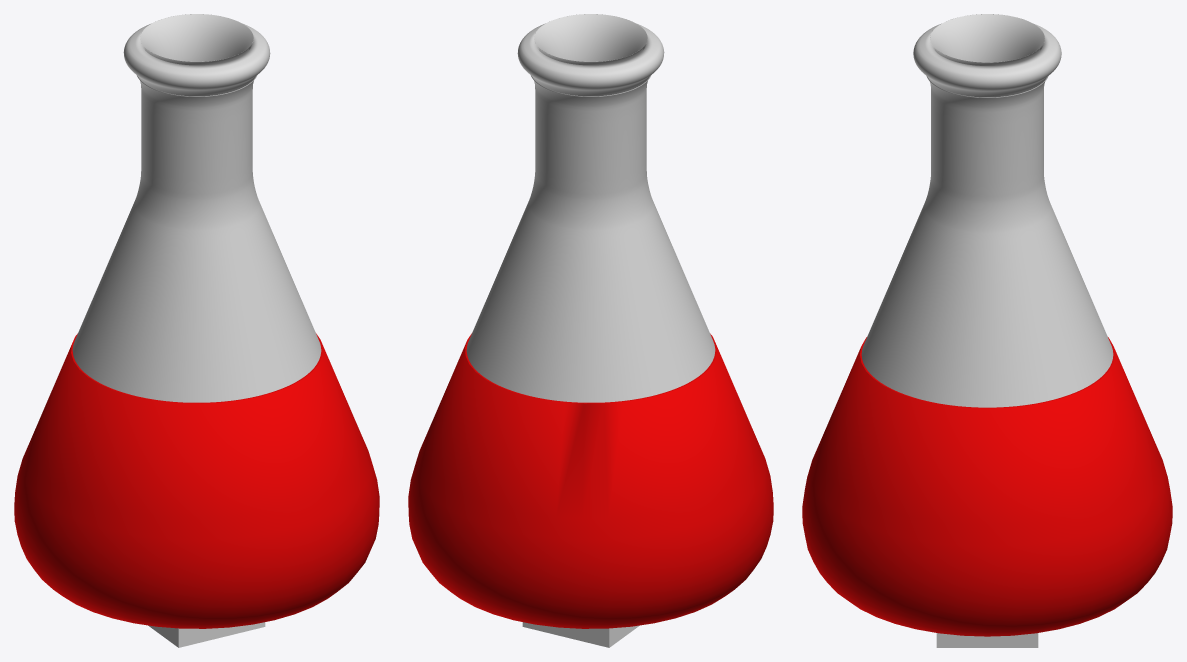
File: beaker.fbx
3 renders of one model, left to right at view 1: azimuth 30°, elevation 25°; view 2: azimuth 150°, elevation 25°; view 3: azimuth 270°, elevation 25°, orthographic.
Parts seen in each view (by area): view 1: fluid, Cylinder, Cube; view 2: fluid, Cylinder, Cube; view 3: fluid, Cylinder, Cube.
Part boxes in pixels (x1,y1,x2,y2): fluid: (14,333,379,628); Cylinder: (72,14,321,402); Cube: (148,622,265,647); fluid: (408,333,773,628); Cylinder: (466,14,715,402); Cube: (522,622,639,647); fluid: (802,337,1172,636); Cylinder: (861,14,1113,407); Cube: (936,633,1038,647).
Bounding box in the file's own units: 730 × 1280 × 730.
